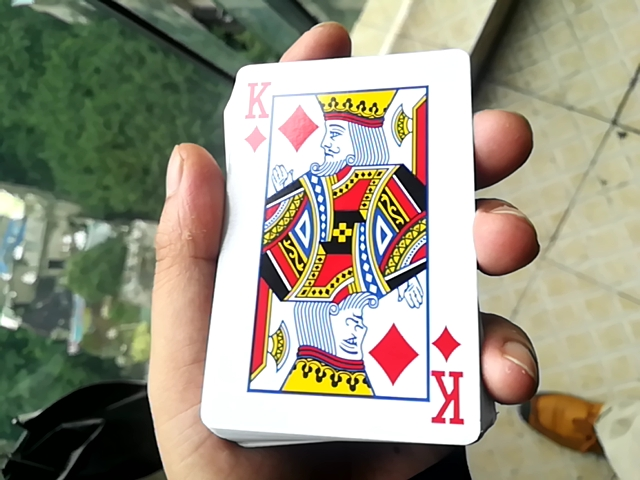fk k: (190, 36, 468, 442)
